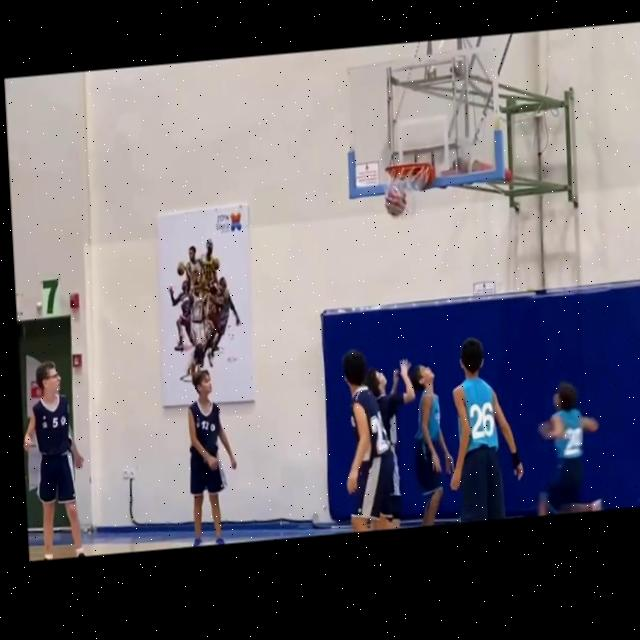basketball: (383, 183, 409, 220)
hoop: (379, 159, 435, 225), (380, 159, 435, 225)
